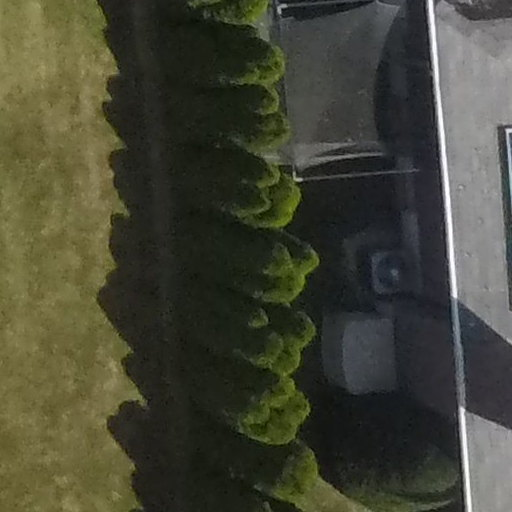air conditioning: (358, 243, 416, 299)
